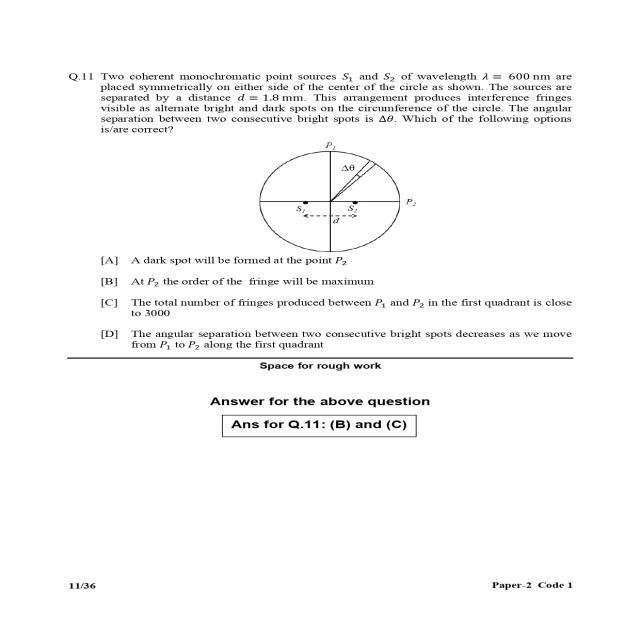Answer_Block: (36, 251, 594, 360)
Question_Answer_Block: (36, 53, 594, 360)
Question_Block: (36, 53, 594, 254)
Question_Paper_Area: (36, 53, 594, 478)
